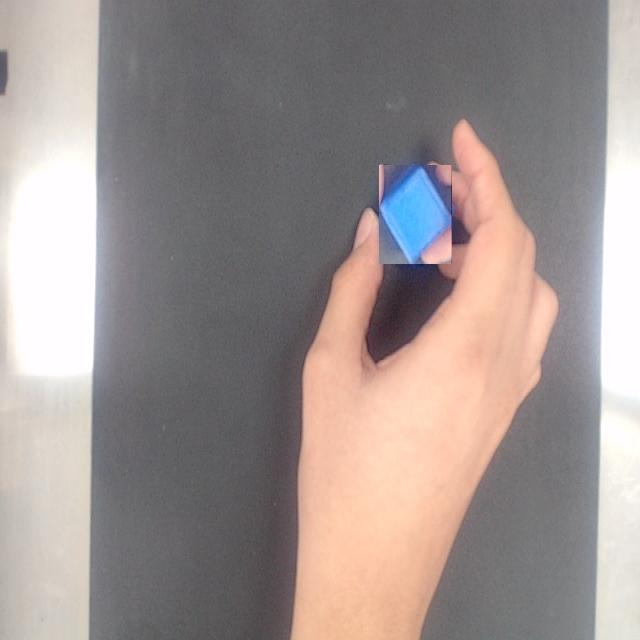Azul: (380, 165, 451, 264)
